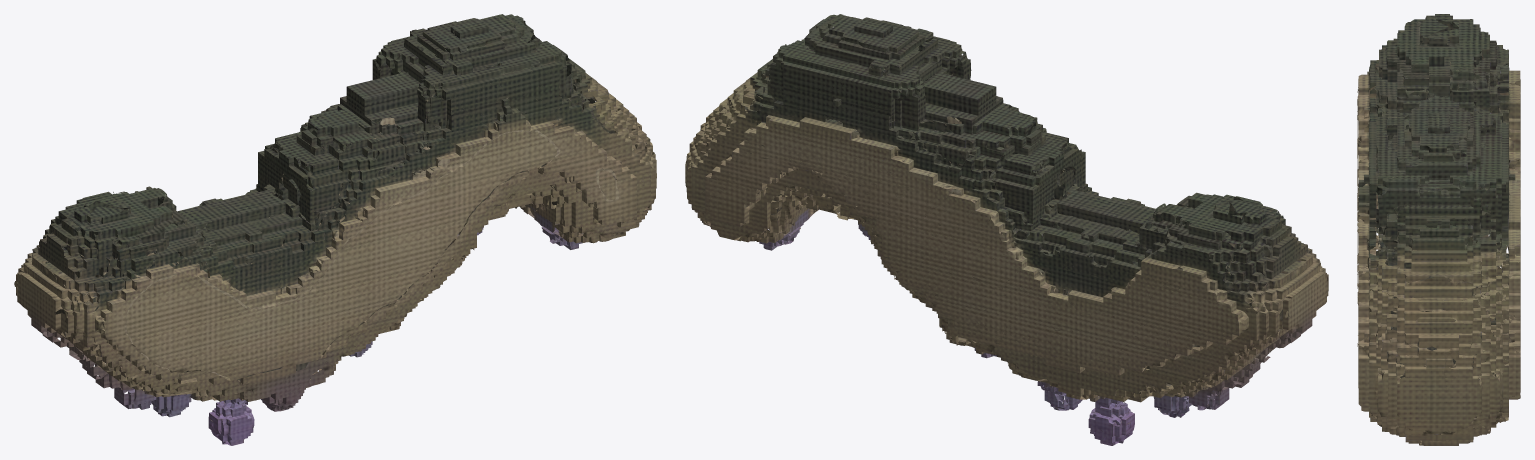
3 views of the same model, side by side, from view 1: azimuth 30°, elevation 25°; view 2: azimuth 150°, elevation 25°; view 3: azimuth 270°, elevation 25° (orthographic). The views are drawn at different scales.
Visible parts, largest first — view 1: world; view 2: world; view 3: world.
Part boxes in pixels (x1,y1,x2,y2): world: (14,14,656,445); world: (685,14,1328,445); world: (1357,14,1520,445).
Size of the model in its own units: 1 by 0.5667 by 0.216.
1 material, 1 textured.
